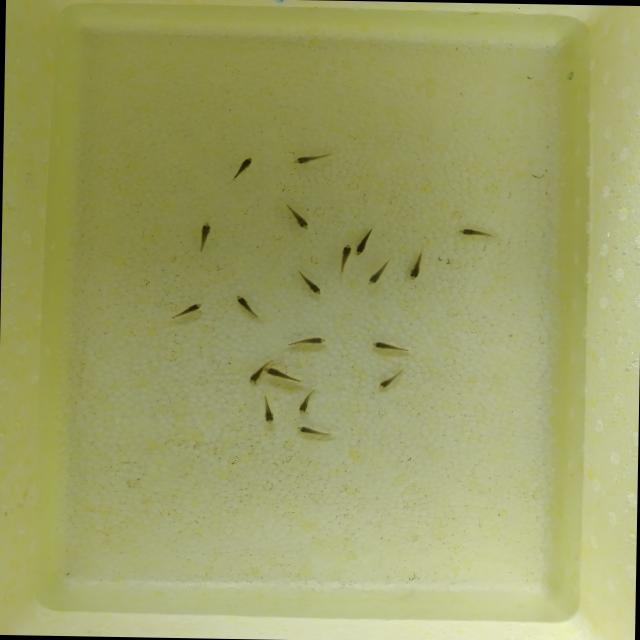fingerling: (276, 197, 312, 231), (294, 267, 326, 298), (376, 364, 409, 392), (226, 156, 256, 186), (366, 256, 394, 288), (288, 150, 338, 167), (166, 300, 206, 320), (263, 365, 305, 384), (232, 293, 262, 319), (405, 248, 426, 282), (454, 226, 505, 240), (294, 388, 318, 417), (369, 340, 418, 354), (195, 219, 215, 253), (284, 334, 332, 348), (258, 393, 278, 425), (354, 226, 374, 256), (294, 424, 336, 438), (338, 242, 352, 274), (247, 368, 261, 386)
